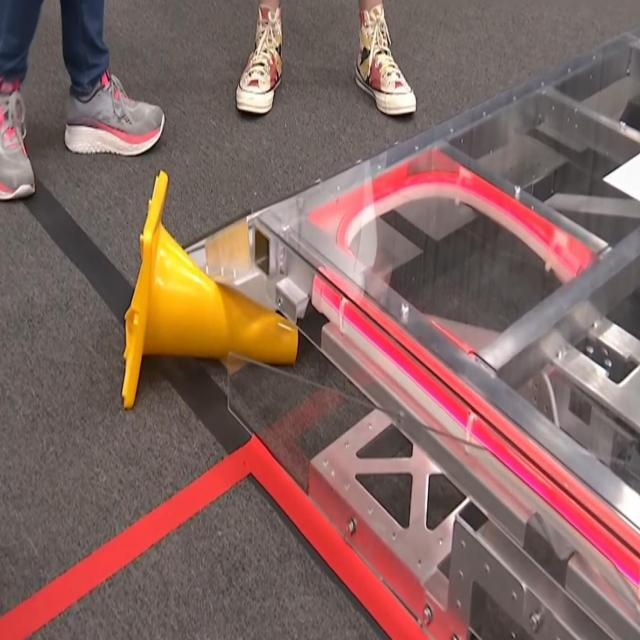frc_cone: (120, 168, 300, 412)
